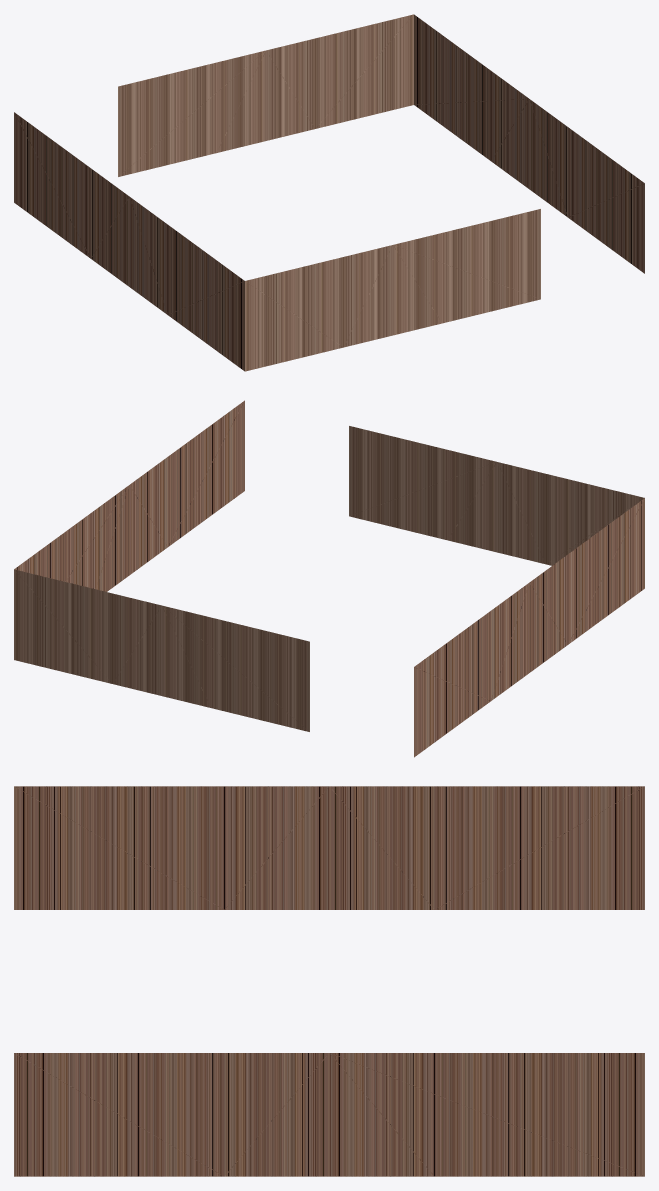
File: woodenFacade.glb
3 renders of one model, top to bottom at view 1: azimuth 30°, elevation 25°; view 2: azimuth 150°, elevation 25°; view 3: azimuth 270°, elevation 25°, orthographic. The views are drawn at different scales.
Parts seen in each view (by area): view 1: woodenFacade; view 2: woodenFacade; view 3: woodenFacade.
Part boxes in pixels (box(x1,y1,x2,y2)): woodenFacade: box(14, 14, 644, 371); woodenFacade: box(14, 400, 644, 757); woodenFacade: box(14, 786, 644, 1176).
Size of the model in its own units: 34.64 by 7.5 by 34.64.
1 material, 1 textured.
